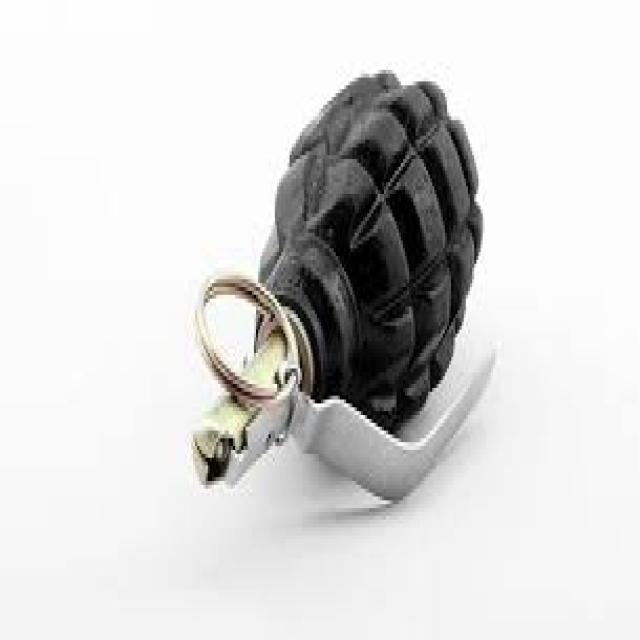grenade: (183, 62, 502, 511)
